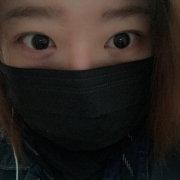OK: (10, 8, 150, 149)
